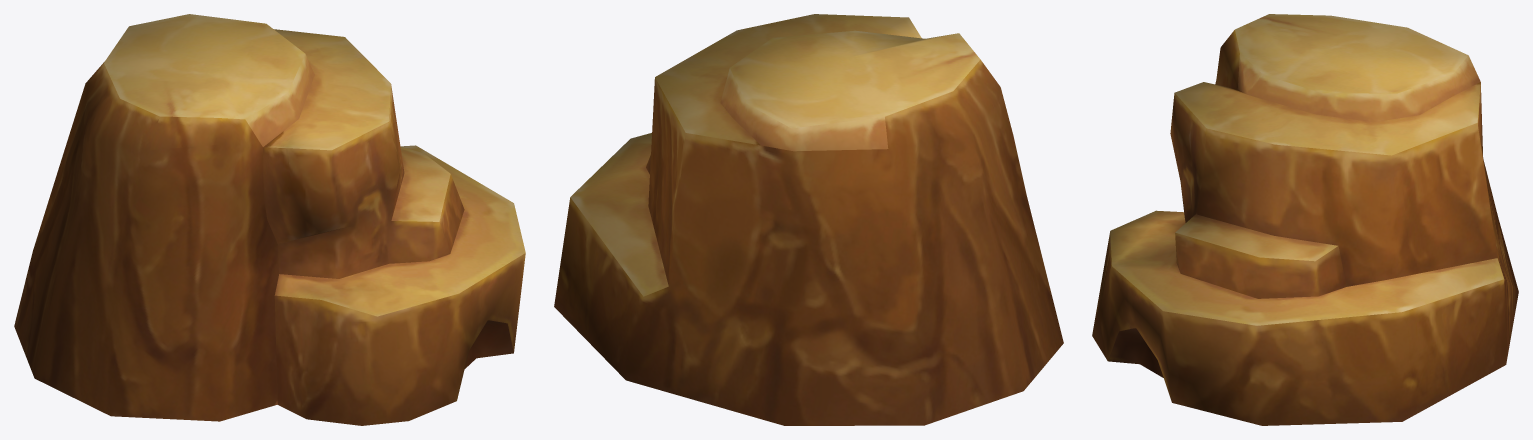
Rendered from Stage_ShaMo_ShanShi09.FBX.
3 renders of one model, left to right at view 1: azimuth 30°, elevation 25°; view 2: azimuth 150°, elevation 25°; view 3: azimuth 270°, elevation 25°, orthographic. The views are drawn at different scales.
Parts seen in each view (by area): view 1: Stage_ShaMo_ShanShi09; view 2: Stage_ShaMo_ShanShi09; view 3: Stage_ShaMo_ShanShi09.
Boxes of the visible parts, x1,y1,x2,y2 form: Stage_ShaMo_ShanShi09: [14, 14, 525, 425]; Stage_ShaMo_ShanShi09: [554, 14, 1063, 425]; Stage_ShaMo_ShanShi09: [1092, 14, 1518, 425].
Bounding box in the file's own units: 1041 × 626 × 951.
